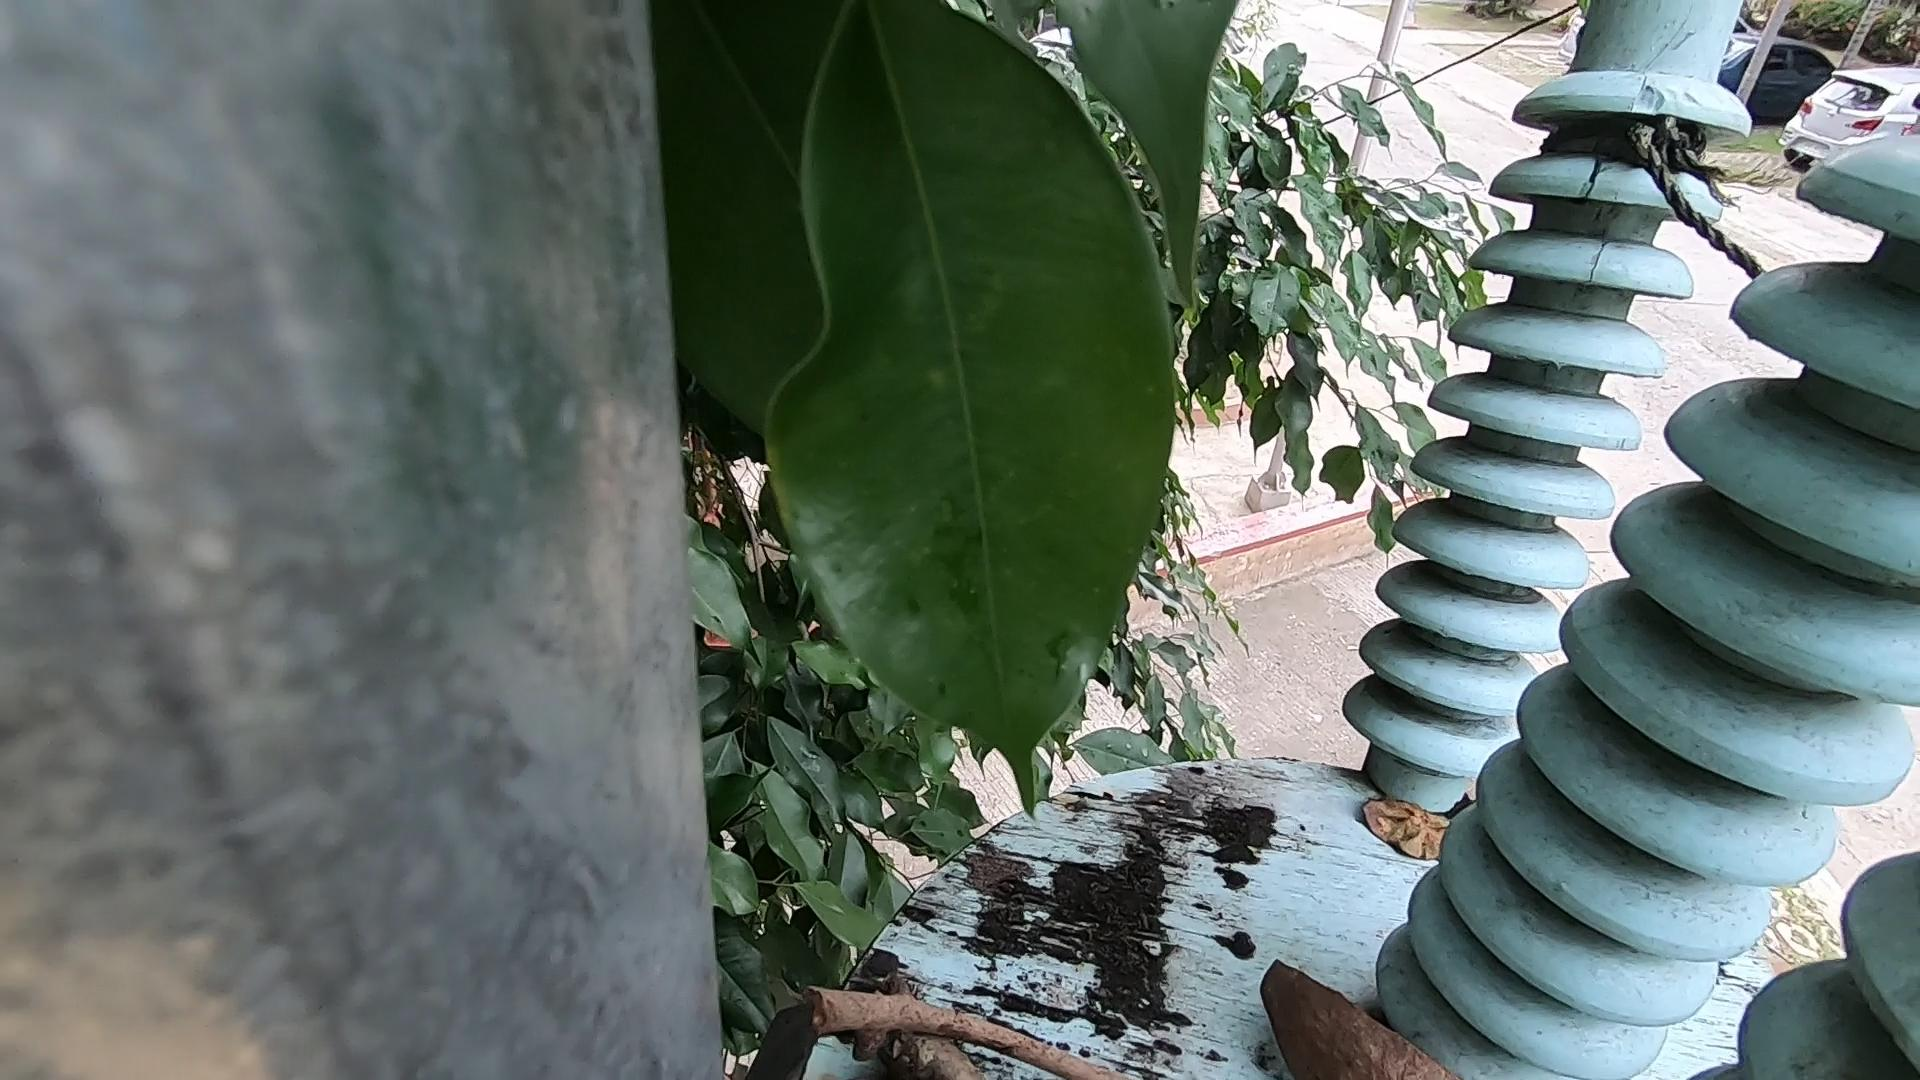branch with leaves: (866, 944, 967, 1080)
leaf: (1352, 761, 1493, 884)
mahogany fruit: (1241, 942, 1389, 1080)
tree branch: (793, 975, 1139, 1080)
